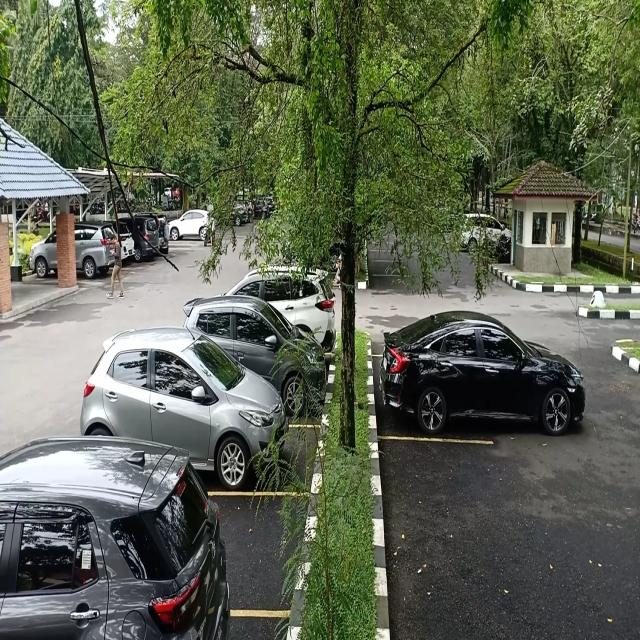empty: (219, 491, 306, 619)
occupied: (375, 334, 583, 445), (173, 384, 312, 498)
